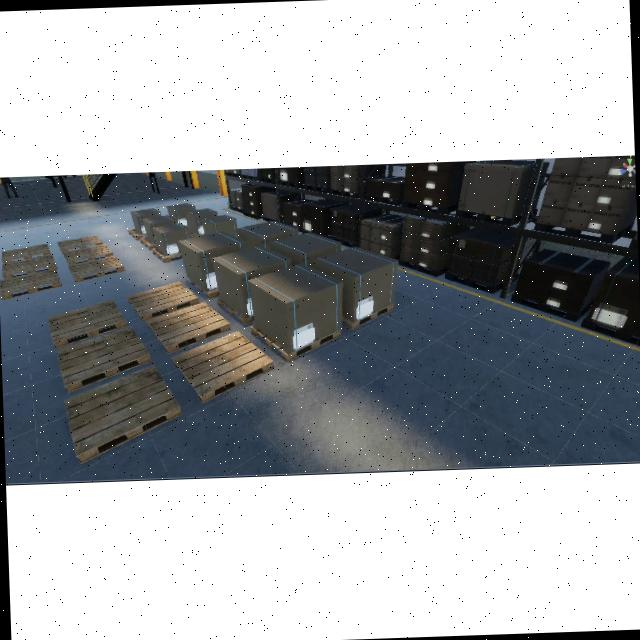wooden_pallet: (63, 364, 182, 464), (171, 331, 275, 404), (146, 301, 231, 354), (46, 299, 127, 348), (250, 323, 341, 361), (126, 281, 199, 322), (342, 304, 394, 328)
